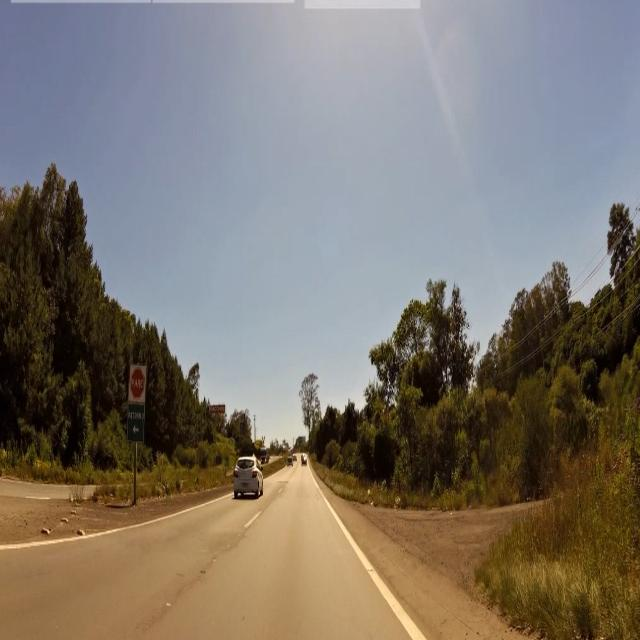R-1: (131, 368, 144, 398)
